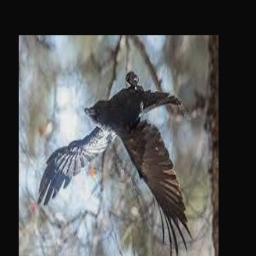Crow: (37, 71, 192, 256)
